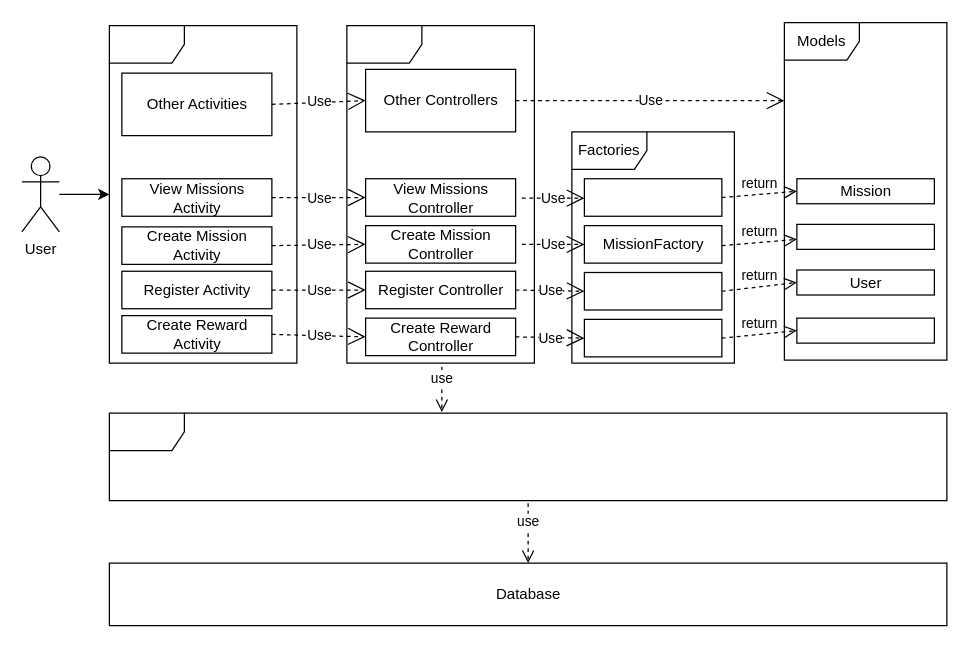
Image size: 969x648. Some labels were removed from this diagram. Each missing label, with the centre of its shape:
"Activities" goes at [202,193].
"Backend" goes at [527,456].
"Controllers" goes at [440,193].
"Reward" goes at [865,330].
"RewardFactory" goes at [652,337].
"Task" goes at [865,236].
"TaskFactory" goes at [652,197].
"UserFactory" goes at [652,290].
